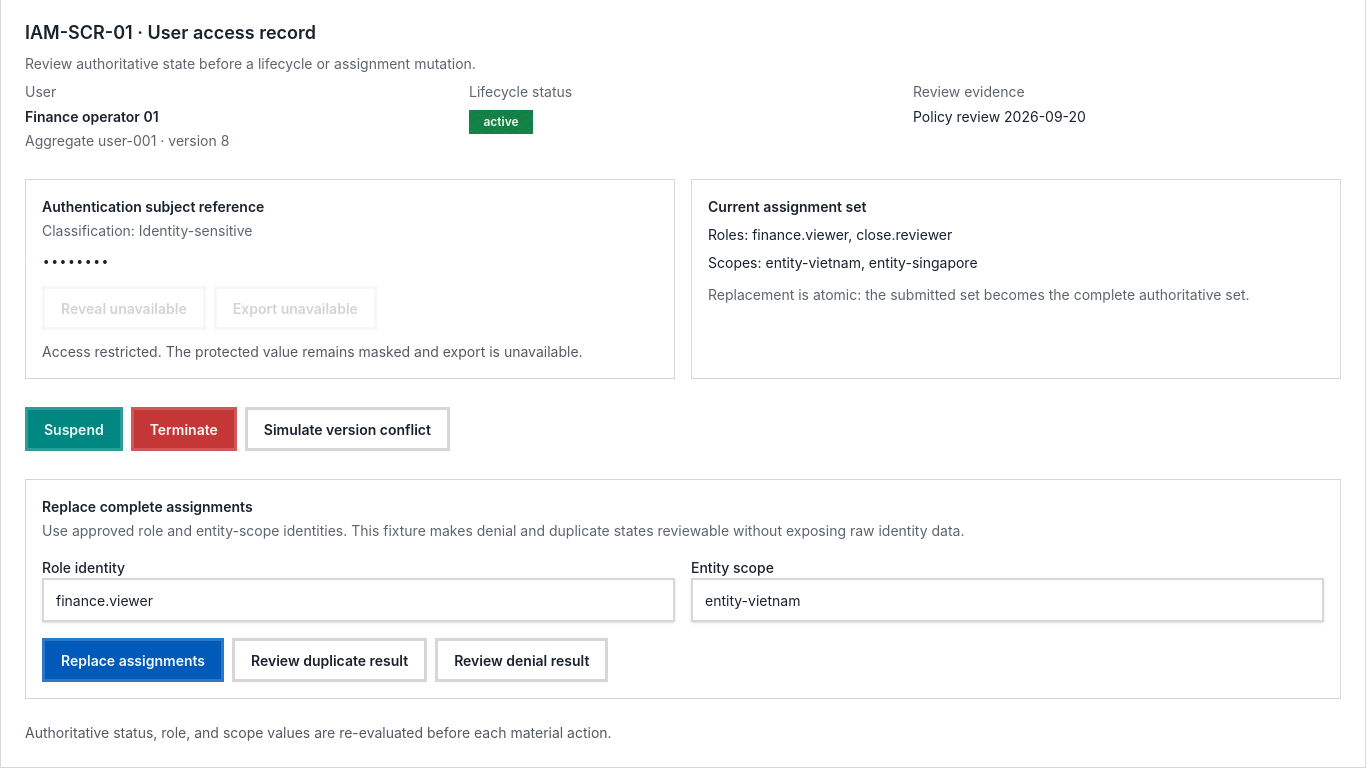
Test: identity access workspace › supports lifecycle actions and safe validation states
The width and height of the screenshot is (1366, 768).
(page scrolled)
Click the button "Suspend" at (74, 429), box [25,407,123,451]
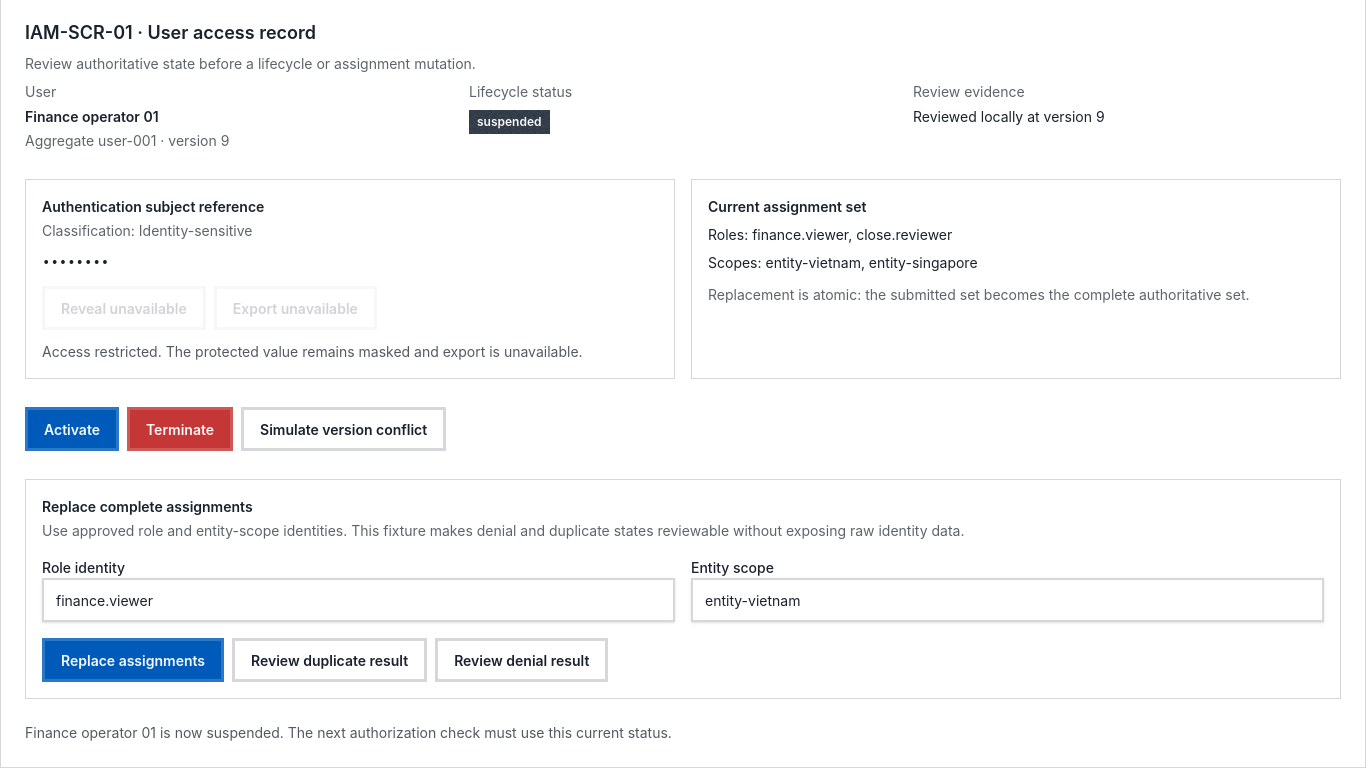
Check: the message "suspended" is shown, box [469,110,550,134]
Click the button "Review duplicate result" at (330, 660), box [232,638,427,682]
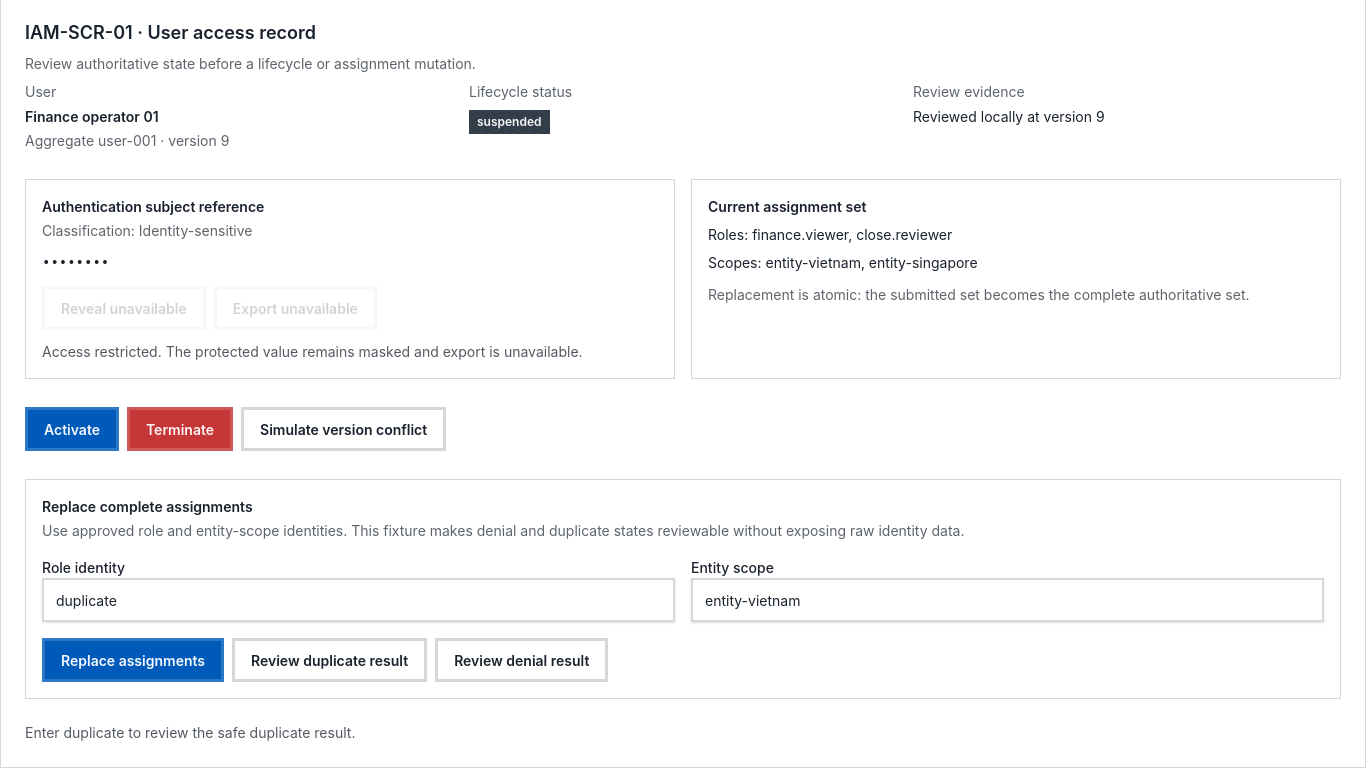
Click the button "Replace assignments" at (133, 660), box [42,638,224,682]
(page scrolled)
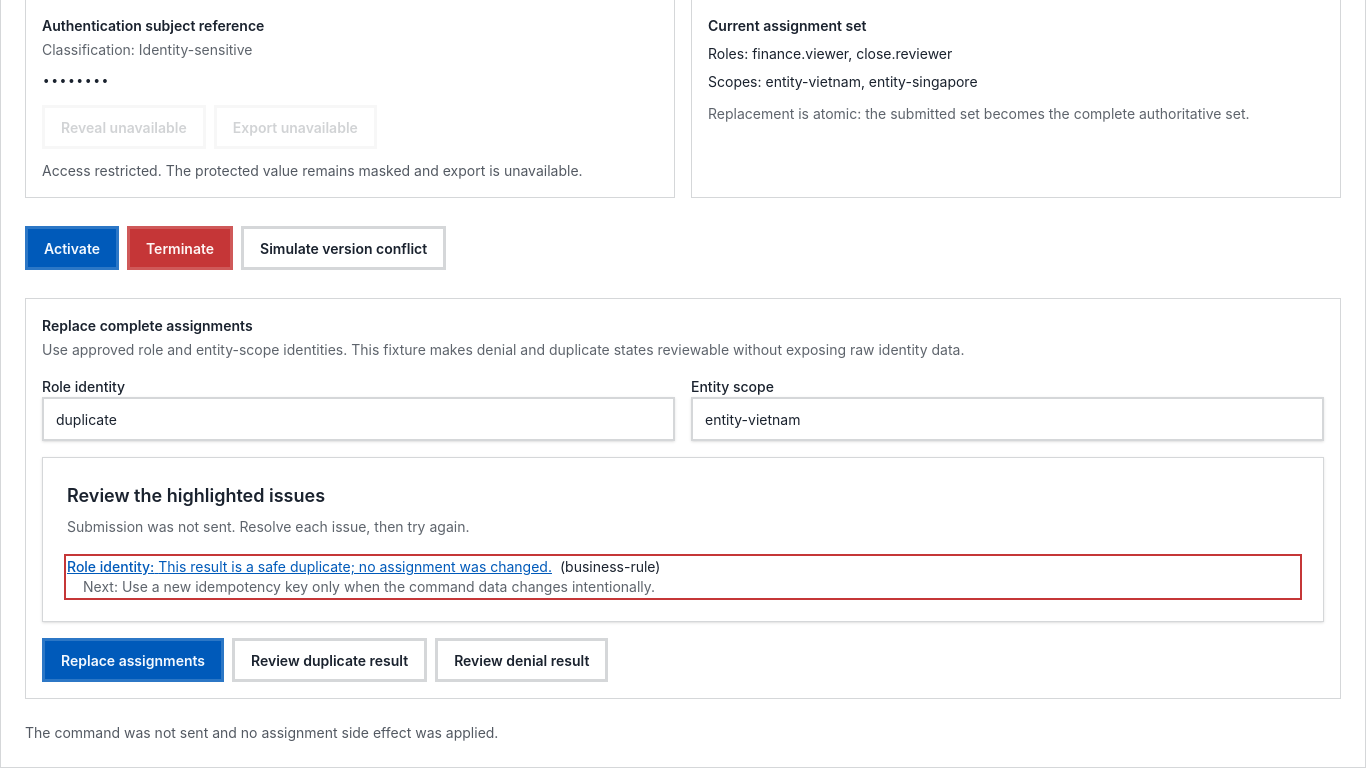
Check: the message that starts with "Role identity" shows "safe duplicate", box [67,558,552,575]
Check: the text "The command was not sent and no assignment side effect was applied." is shown, box [25,724,498,741]
